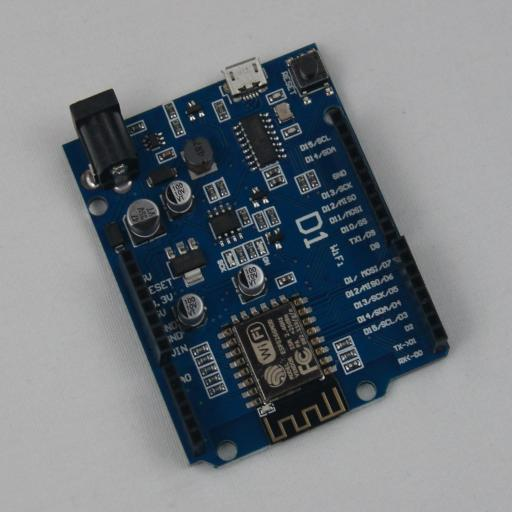Arduino Uno WiFi Shield: (62, 43, 450, 469)
